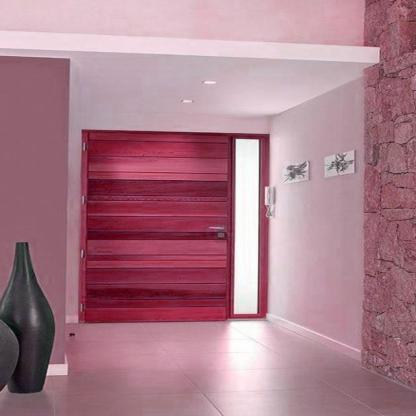door: (70, 126, 240, 329)
